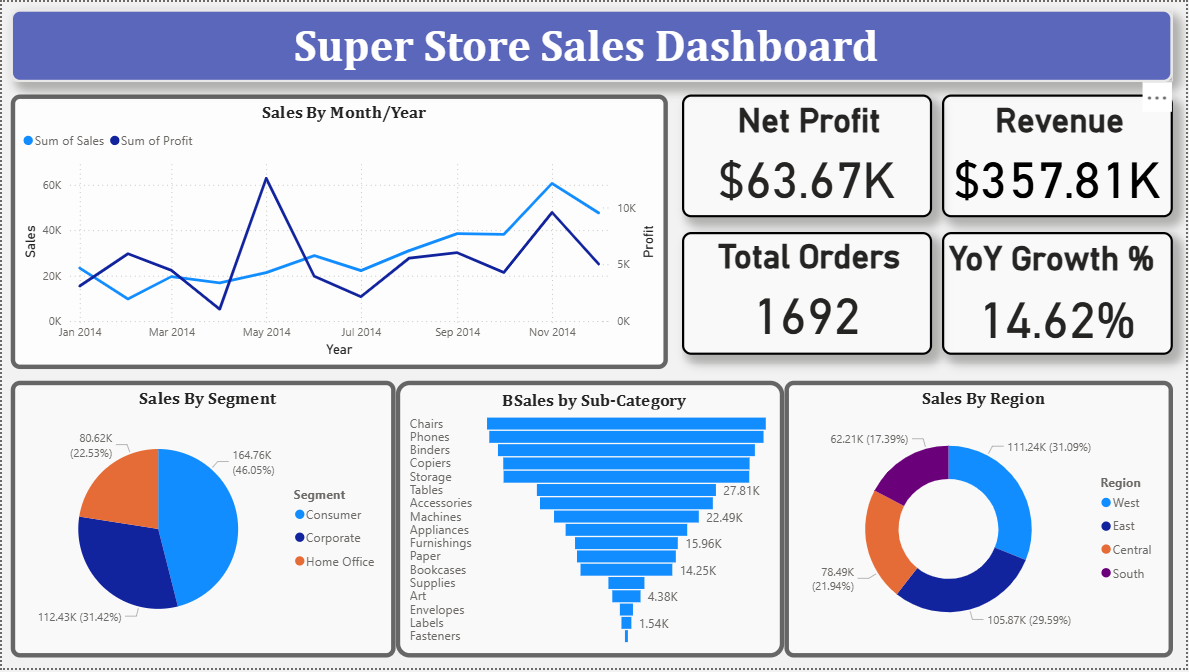

The dashboard page shown, as its layout file describes it:
{"tool":"powerbi","page":{"name":"Page 1","canvas":[1280,720],"ordinal":0},"visuals":[{"type":"card","title":"Revenue","fields":{"Values":["Sum(Superstore1.Sales)"]},"box":[1015.8,100.1,249.7,132.7],"z":0},{"type":"card","title":"Total Orders","fields":{"Values":["Count(Superstore1.Order ID)"]},"box":[734.7,248.5,270.2,132.7],"z":1000},{"type":"card","title":"Net Profit","fields":{"Values":["Sum(Superstore1.Profit)"]},"box":[734.7,100.1,270.2,132.7],"z":2000},{"type":"donutChart","title":"Sales By Region","fields":{"Category":["Superstore1.Region"],"Y":["Sum(Superstore1.Sales)"]},"box":[845.7,409,419.8,299.2],"z":3000},{"type":"funnel","title":"BSales by Sub-Category","fields":{"Category":["Superstore1.Sub-Category"],"Y":["Sum(Superstore1.Sales)"]},"box":[425.9,409,419.8,299.2],"z":4000},{"type":"pieChart","title":"Sales By Segment","fields":{"Category":["Superstore1.Segment"],"Y":["Sum(Superstore1.Sales)"]},"box":[9.7,409,416.2,299.2],"z":5000},{"type":"lineChart","title":"Sales By Month/Year","fields":{"Category":["Superstore1.Order Date.Variation.Date Hierarchy.Year","Superstore1.Order Date.Variation.Date Hierarchy.Quarter","Superstore1.Order Date.Variation.Date Hierarchy.Month"],"Y":["Sum(Superstore1.Sales)"],"Y2":["Sum(Superstore1.Profit)"]},"box":[9.7,100.1,710.6,296.8],"z":6000},{"type":"textbox","box":[9.7,8.4,1255.9,78.4],"z":7000},{"type":"card","title":"YoY Growth %","fields":{"Values":["Superstore1.Sum of Sales YoY%"]},"box":[1015.8,248.5,249.7,132.7],"z":7001}]}

Visuals, with their boxes in screenshot pixels (x1, y1, x2, y2), scaled from the page's 1280x720 canvas onto the 1189x672 screenshot:
"Revenue" card: BBox(944, 93, 1176, 217)
"Total Orders" card: BBox(682, 232, 933, 356)
"Net Profit" card: BBox(682, 93, 933, 217)
"Sales By Region" donutChart: BBox(786, 382, 1176, 661)
"BSales by Sub-Category" funnel: BBox(396, 382, 786, 661)
"Sales By Segment" pieChart: BBox(9, 382, 396, 661)
"Sales By Month/Year" lineChart: BBox(9, 93, 669, 370)
textbox: BBox(9, 8, 1176, 81)
"YoY Growth %" card: BBox(944, 232, 1176, 356)
